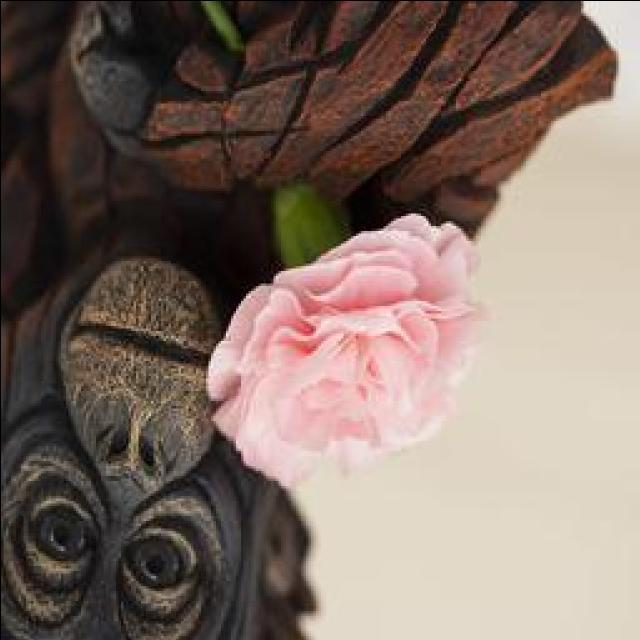carnation: (198, 186, 508, 494)
